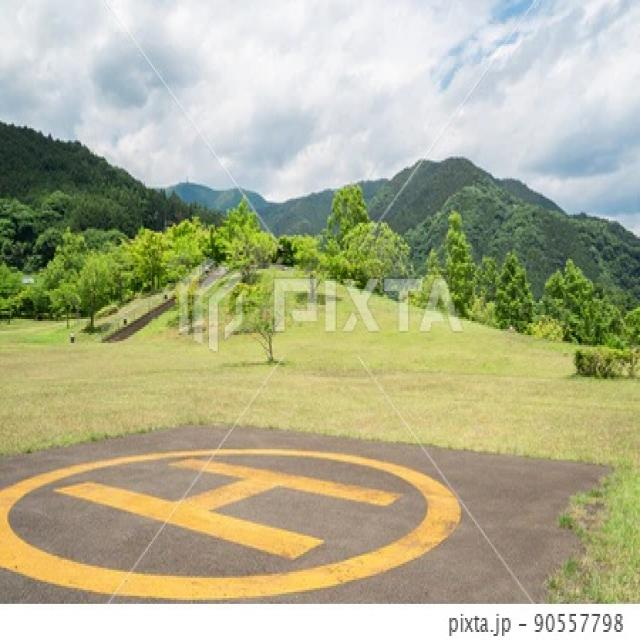helipad: (0, 439, 462, 604)
